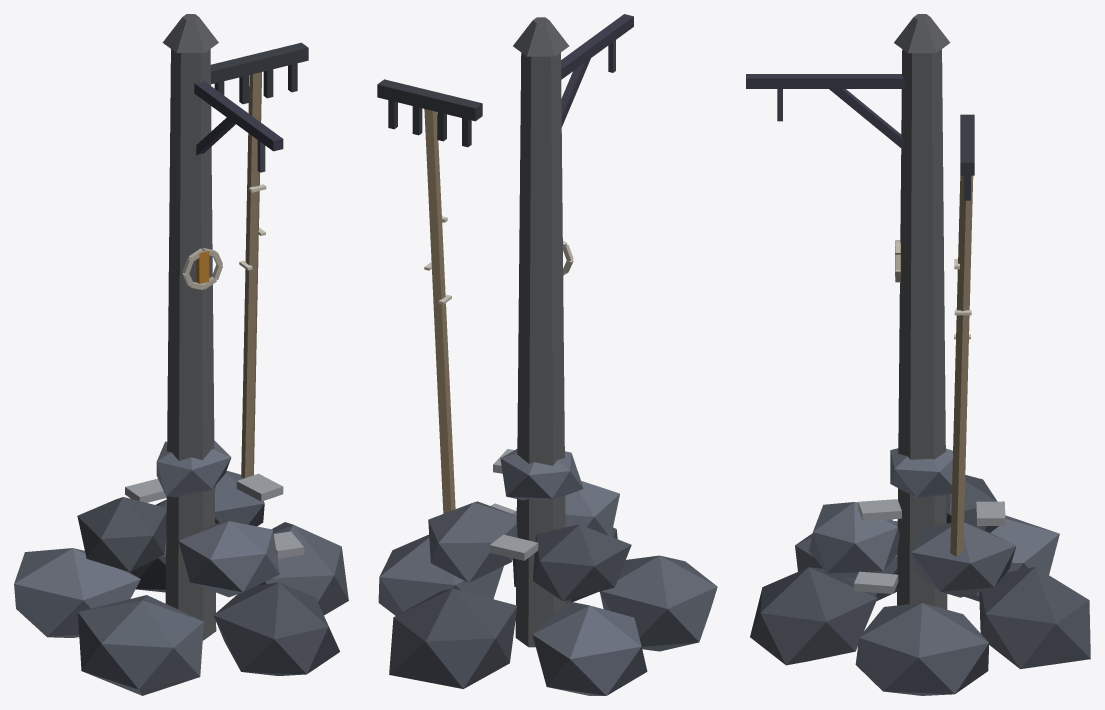
File: waymark_rake.glb
3 renders of one model, left to right at view 1: azimuth 30°, elevation 25°; view 2: azimuth 150°, elevation 25°; view 3: azimuth 270°, elevation 25°, orthographic.
Parts seen in each view (by area): view 1: silverfog_d50, slate_d5, slate_d15, slate_d30, driftwood_d25, slate_d45, ink_l15, silverfog_d20, silverfog_d55, bone_d20; view 2: silverfog_d50, slate_d15, slate_d30, slate_d5, driftwood_d25, slate_d45, ink_l15, silverfog_d55, silverfog_d20; view 3: silverfog_d50, slate_d30, slate_d15, slate_d5, driftwood_d25, ink_l15, silverfog_d20, silverfog_d55, slate_d45.
Boxes of the visible parts, x1,y1,x2,y2 form: silverfog_d50: (165,49,216,640); slate_d5: (14,440,279,637); slate_d15: (78,471,348,695); slate_d30: (77,497,339,675); driftwood_d25: (241,72,261,478); slate_d45: (210,42,308,104); ink_l15: (194,81,283,155); silverfog_d20: (125,473,304,558); silverfog_d55: (162,14,218,52); bone_d20: (182,248,222,289); silverfog_d50: (515,52,566,647); slate_d15: (378,501,717,651); slate_d30: (389,524,631,688); slate_d5: (500,449,647,695); driftwood_d25: (424,109,455,513); slate_d45: (377,79,482,147); ink_l15: (561,14,633,127); silverfog_d55: (513,17,569,56); silverfog_d20: (489,449,538,560); silverfog_d50: (897,49,947,609); slate_d30: (750,475,1090,669); slate_d15: (795,521,1016,695); slate_d5: (809,448,1059,601); driftwood_d25: (950,175,973,556); ink_l15: (746,74,905,149); silverfog_d20: (854,499,1005,593); silverfog_d55: (894,14,950,53); slate_d45: (960,114,974,200).
Bounding box in the file's own units: 1.18 × 2.47 × 1.21.
